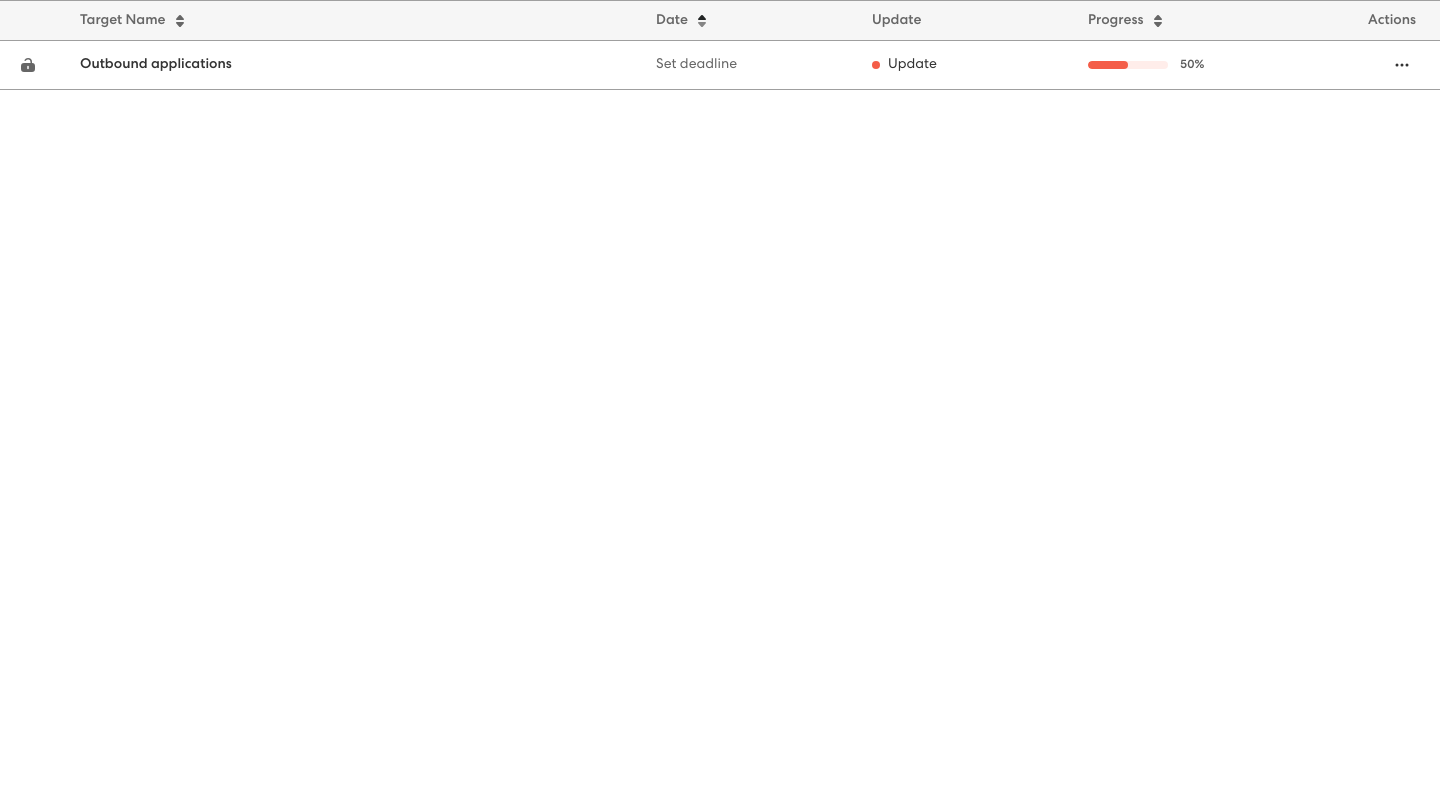
Test: DesktopTargetsTable — side panel only opens via Status column › opens the Update Progress panel when clicking the Status button
What coordinates should you click on to do the following:
click the button "Update"
I would click on:
 (904, 65)
Its box is [872,49,937,81].
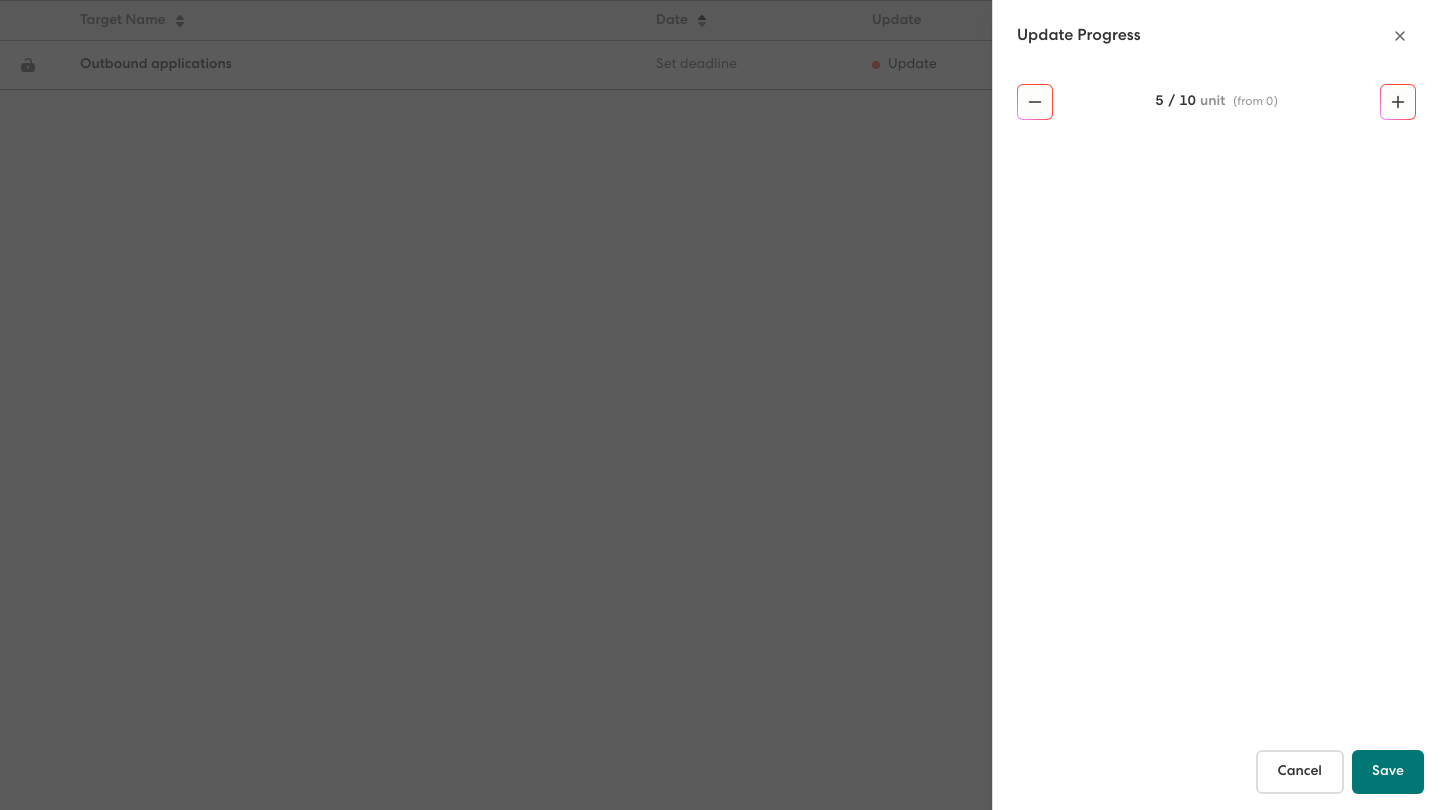
Expected: the heading "Update Progress" is shown, [1017,24,1141,48]
